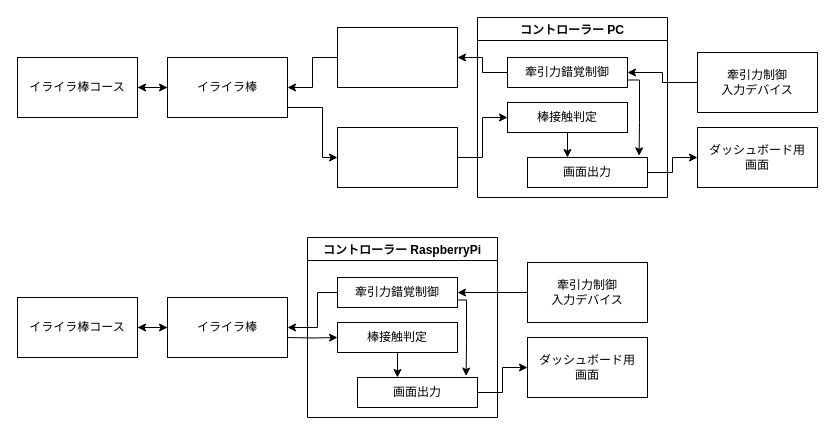
Some shapes in this 835 by 435 pixel diagram are drawn without their labels. Here are the shapes that lost their labels. From the top down, the centre of each, then its label:
point 397,57: 牽引力錯覚信号生成 M5 Stick
point 397,157: 棒接触判定 M5 Stick
